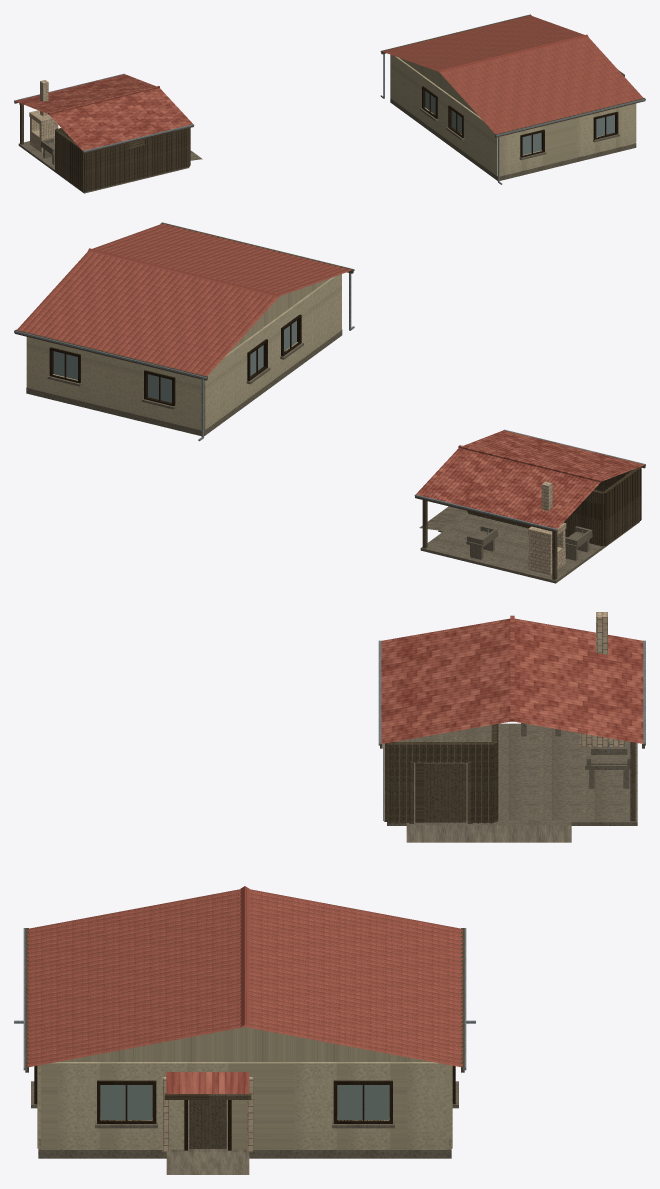
3 renders of one model, top to bottom at view 1: azimuth 30°, elevation 25°; view 2: azimuth 150°, elevation 25°; view 3: azimuth 270°, elevation 25°, orthographic. The views are drawn at different scales.
Visible parts, largest first — view 1: H11_TELHAS, H11_EDICULA_COBERTURA, H11_LATERAIS, H11_FUNDOS, H11_EDICULA_DEPOSITO_LATERAL, H11_EDICULA_DEPOSITO_MATA_JUNTAS, H11_EDICULA_DEPOSITO_FUNDOS, H11_FUNDACAO, H11_VIDROS_RECUADOS, H11_CAIXILHOS, H11_BEIRAIS, H11_OITOES (+7 smaller); view 2: H11_TELHAS, H11_EDICULA_COBERTURA, H11_LATERAIS, H11_FUNDOS, H11_EDICULA_BASE, H11_FUNDACAO, H11_EDICULA_DEPOSITO_FUNDOS, H11_EDICULA_DEPOSITO_MATA_JUNTAS, H11_VIDROS_RECUADOS, H11_EDICULA_DEPOSITO_LATERAL, H11_CAIXILHOS, H11_OITOES (+7 smaller); view 3: H11_TELHAS, H11_EDICULA_COBERTURA, H11_FACHADA, H11_EDICULA_BASE, H11_OITOES, H11_EDICULA_DEPOSITO_FRENTE, H11_VIDROS_RECUADOS, H11_FUNDACAO, H11_EDICULA_DEPOSITO_PORTA_FOLHA, H11_EDICULA_RAMPA, H11_CAIXILHOS, H11_RAMPA (+9 smaller).
Boxes of the visible parts, x1,y1,x2,y2 form: H11_TELHAS: (383, 15, 643, 133); H11_EDICULA_COBERTURA: (15, 74, 192, 150); H11_LATERAIS: (499, 104, 635, 176); H11_FUNDOS: (390, 54, 497, 176); H11_EDICULA_DEPOSITO_LATERAL: (55, 128, 189, 191); H11_EDICULA_DEPOSITO_MATA_JUNTAS: (55, 128, 188, 191); H11_EDICULA_DEPOSITO_FUNDOS: (55, 130, 84, 191); H11_FUNDACAO: (390, 98, 636, 180); H11_VIDROS_RECUADOS: (425, 91, 614, 154); H11_CAIXILHOS: (422, 86, 618, 157); H11_BEIRAIS: (381, 14, 645, 137); H11_OITOES: (400, 58, 478, 115); H11_TELHAS: (17, 223, 351, 375); H11_EDICULA_COBERTURA: (416, 430, 644, 528); H11_LATERAIS: (27, 337, 201, 430); H11_FUNDOS: (204, 274, 341, 429); H11_EDICULA_BASE: (420, 514, 639, 583); H11_FUNDACAO: (26, 329, 342, 436); H11_EDICULA_DEPOSITO_FUNDOS: (603, 467, 641, 545); H11_EDICULA_DEPOSITO_MATA_JUNTAS: (469, 468, 640, 546); H11_VIDROS_RECUADOS: (53, 320, 296, 402); H11_EDICULA_DEPOSITO_LATERAL: (468, 470, 632, 546); H11_CAIXILHOS: (49, 314, 301, 406); H11_OITOES: (229, 278, 330, 352); H11_TELHAS: (27, 889, 462, 1067); H11_EDICULA_COBERTURA: (381, 618, 643, 743); H11_FACHADA: (41, 1062, 448, 1149); H11_EDICULA_BASE: (387, 723, 637, 825); H11_OITOES: (58, 1027, 431, 1061); H11_EDICULA_DEPOSITO_FRENTE: (387, 742, 494, 823); H11_VIDROS_RECUADOS: (100, 1085, 389, 1119); H11_FUNDACAO: (38, 1085, 451, 1158); H11_EDICULA_DEPOSITO_PORTA_FOLHA: (415, 763, 466, 822); H11_EDICULA_RAMPA: (453, 825, 571, 842); H11_CAIXILHOS: (34, 1066, 455, 1123); H11_RAMPA: (166, 1151, 249, 1174).
Bounding box in the file's own units: 29.99 × 4.28 × 17.65.
10 materials, 9 textured.
